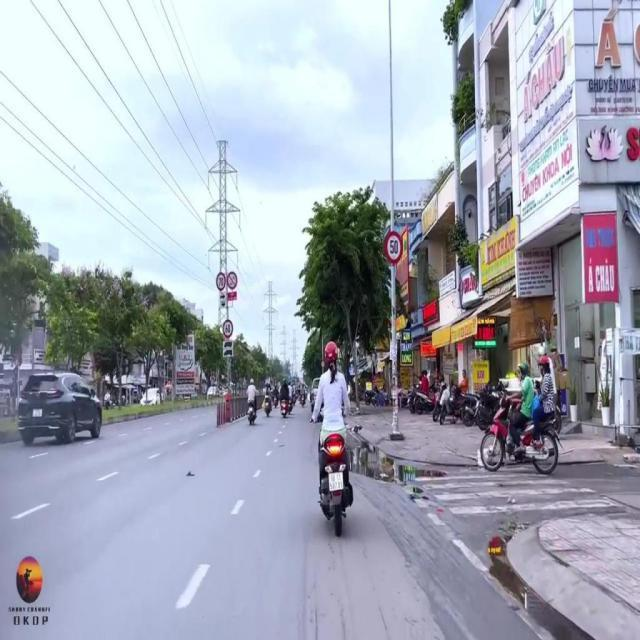127-toc-do-toi-da-50: (384, 230, 404, 264)
127-toc-do-toi-da-60: (222, 318, 234, 338)
127-toc-do-toi-da-70: (216, 272, 226, 292)
